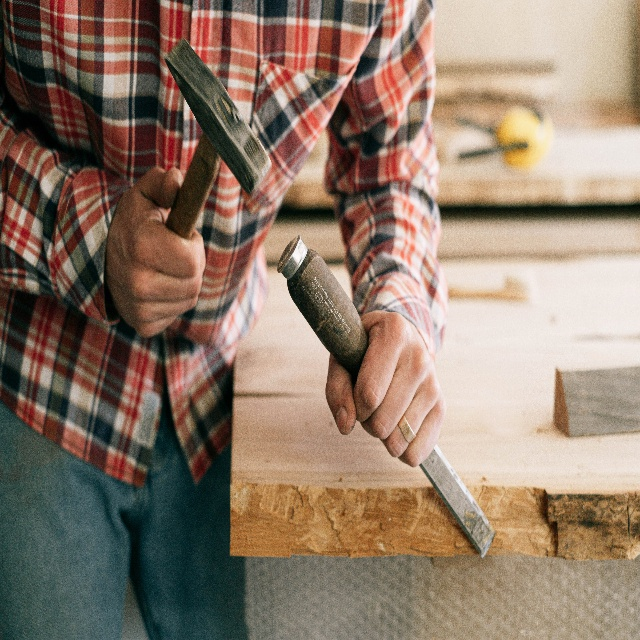Sin_guantes: (321, 302, 445, 469), (105, 163, 208, 342)
